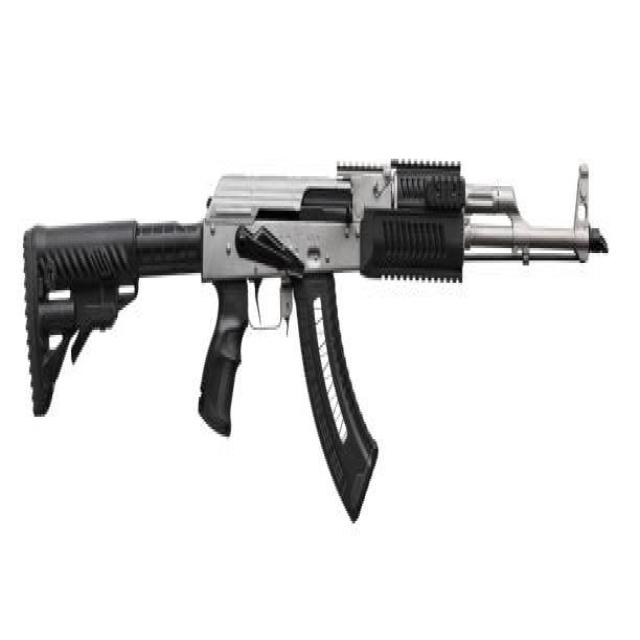rifle: (16, 133, 611, 539)
